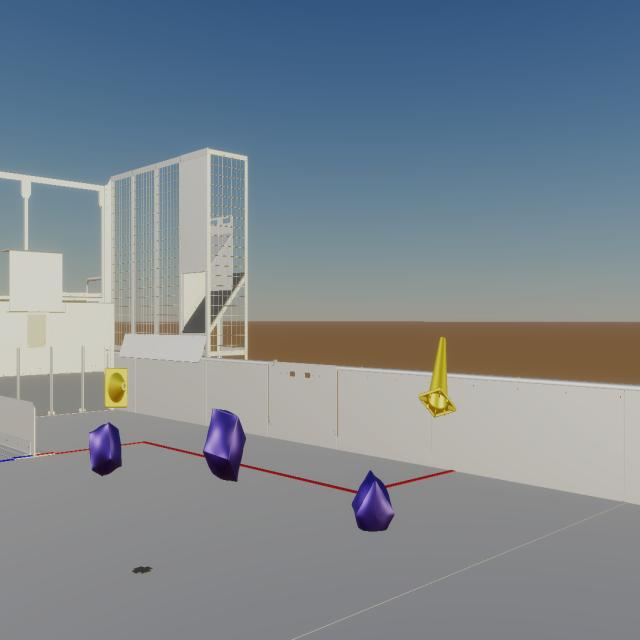frc_cone: (419, 337, 456, 418), (104, 367, 128, 408)
frc_cube: (203, 408, 246, 482), (352, 471, 394, 532), (89, 422, 122, 476)
